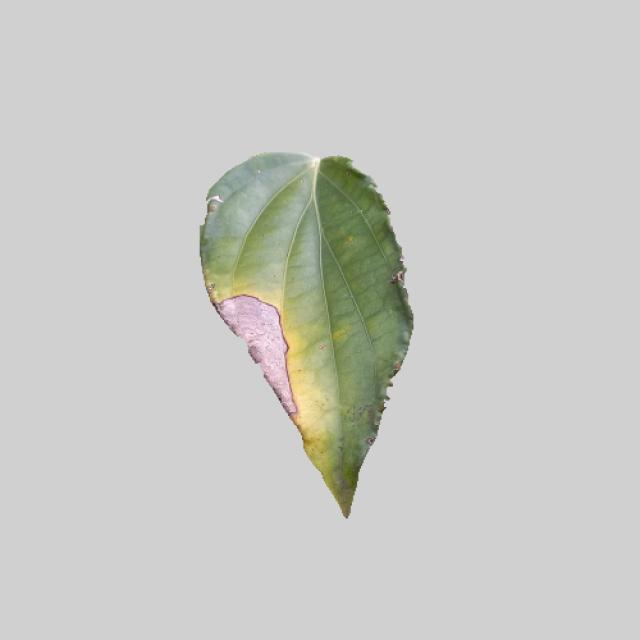leaf-blight: (190, 150, 418, 516)
